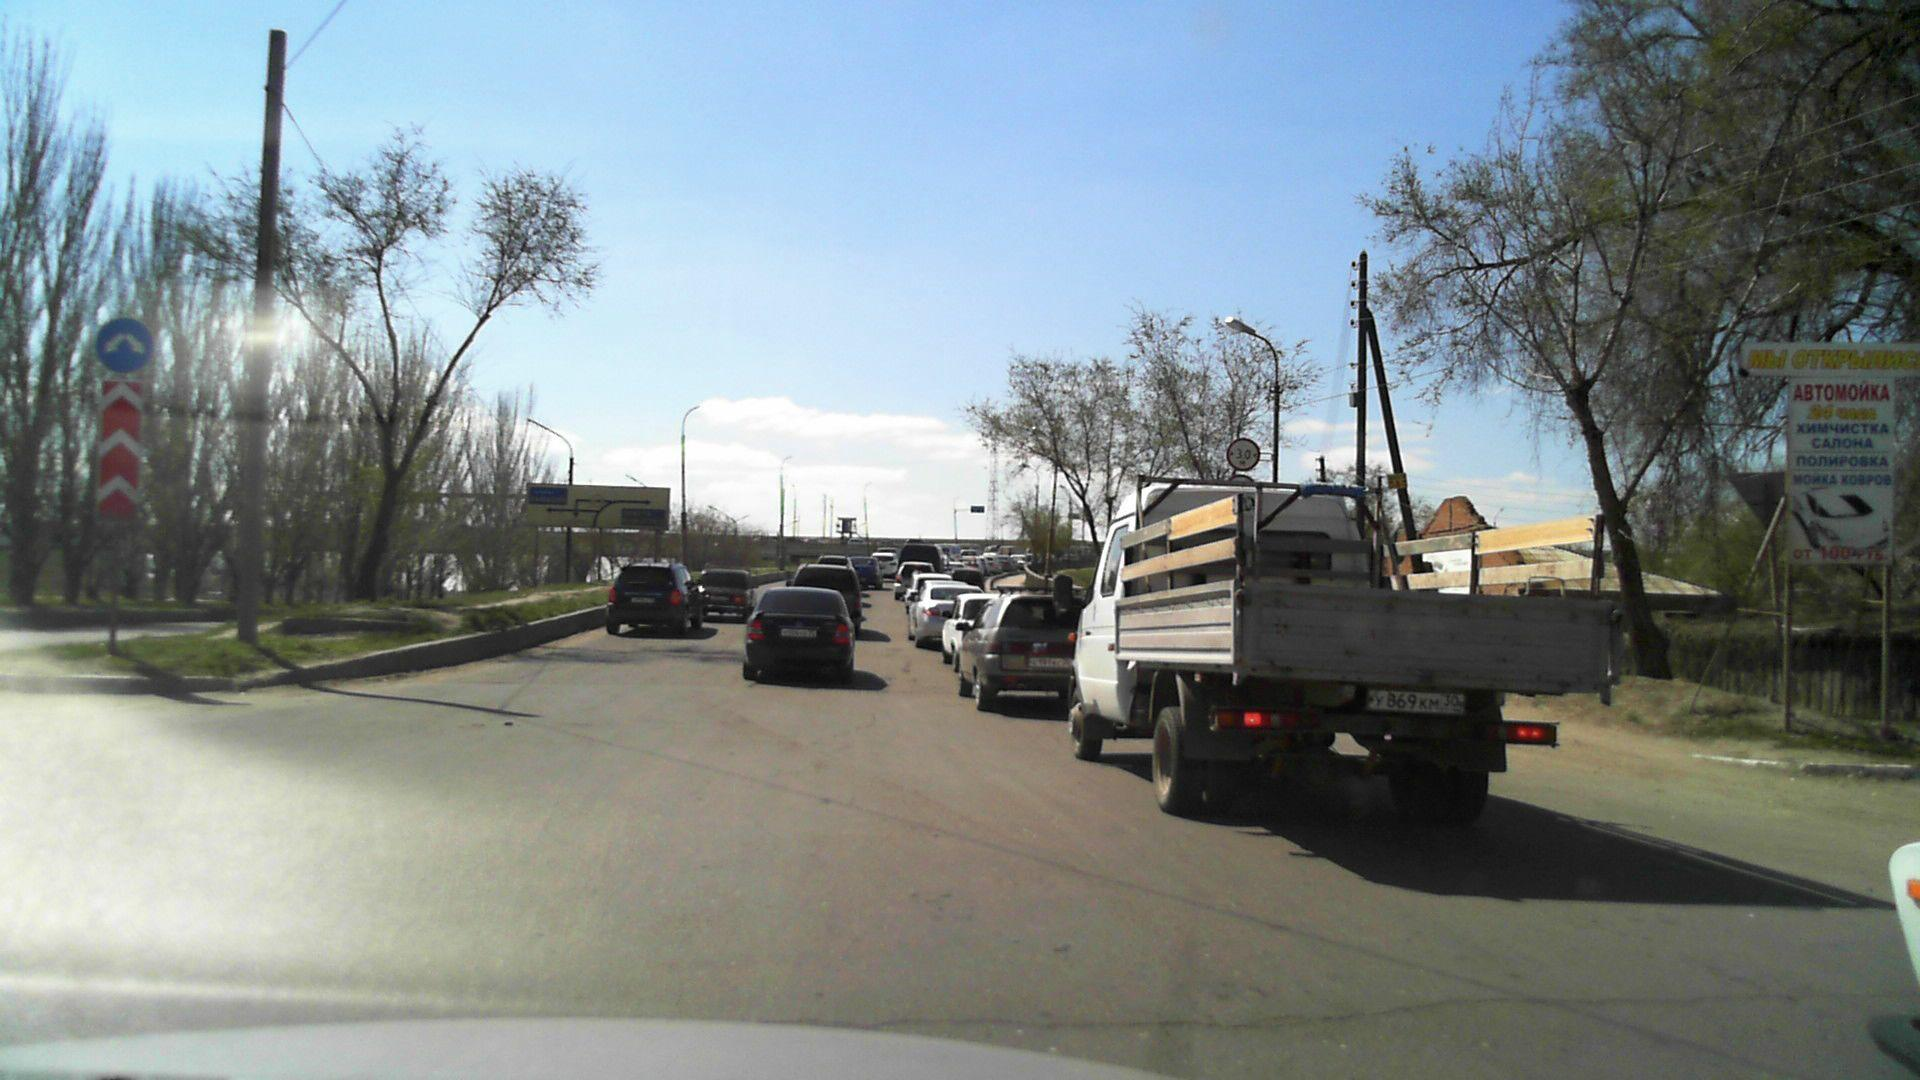3_14: (1224, 434, 1262, 472)
3_6: (1226, 473, 1259, 489)
4_2_3: (94, 311, 153, 373)
6_9_1: (522, 484, 673, 533)
8_22_3: (94, 371, 154, 534)
